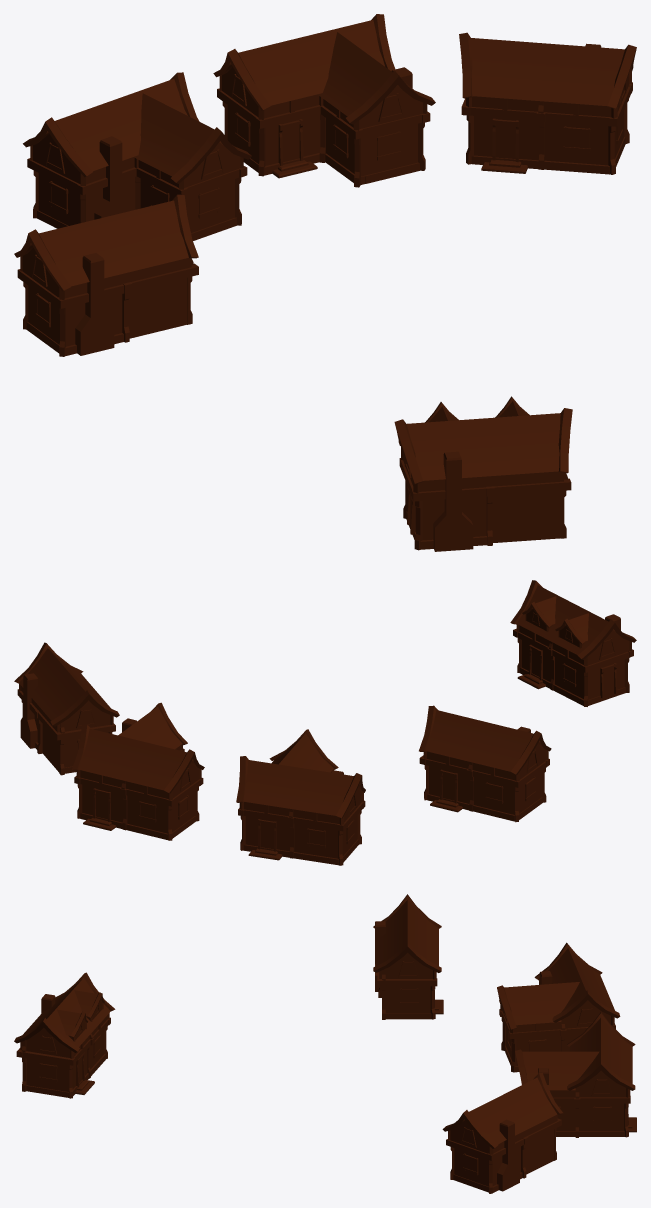
Rendered from houses.FBX.
The picture shows the model from 3 angles, top to bottom: view 1: azimuth 30°, elevation 25°; view 2: azimuth 150°, elevation 25°; view 3: azimuth 270°, elevation 25°; orthographic projection. The views are drawn at different scales.
Parts seen in each view (by area): view 1: Box088, Box089, Object078, Box109, Box090; view 2: Box088, Box089, Box109, Object078, Box090; view 3: Box088, Box090, Box089, Object078, Box109.
Boxes of the visible parts, x1=… form: Box088: x1=213, y1=14, x2=435, y2=187; Box089: x1=23, y1=72, x2=251, y2=240; Object078: x1=394, y1=396, x2=572, y2=551; Box109: x1=14, y1=194, x2=198, y2=356; Box090: x1=459, y1=32, x2=636, y2=174; Box088: x1=72, y1=702, x2=204, y2=840; Box089: x1=236, y1=729, x2=365, y2=865; Box109: x1=419, y1=705, x2=551, y2=822; Object078: x1=510, y1=580, x2=636, y2=706; Box090: x1=14, y1=642, x2=119, y2=775; Box088: x1=515, y1=1012, x2=636, y2=1137; Box090: x1=442, y1=1073, x2=562, y2=1193; Box089: x1=497, y1=942, x2=620, y2=1072; Object078: x1=14, y1=972, x2=115, y2=1098; Box109: x1=373, y1=894, x2=443, y2=1019.
Size of the model in its own units: 2207 by 519 by 2596.
